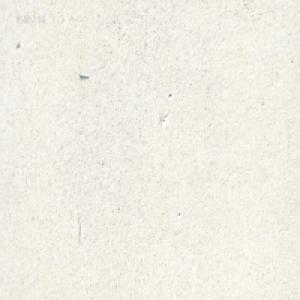Nail: (78, 72, 89, 78)
